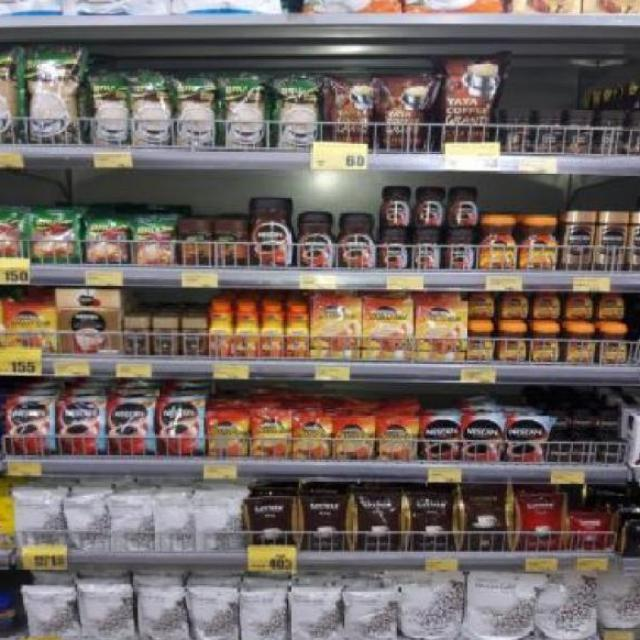Coffee: (249, 198, 295, 267), (5, 396, 56, 454), (364, 299, 413, 359), (156, 398, 205, 456), (313, 298, 361, 357), (417, 302, 466, 359), (108, 399, 155, 455), (58, 399, 105, 454), (5, 304, 56, 354), (295, 213, 336, 269), (338, 214, 378, 271), (478, 216, 516, 269), (518, 217, 556, 270), (462, 416, 503, 464), (207, 412, 249, 458), (505, 419, 547, 464), (376, 418, 419, 461), (333, 416, 374, 460), (564, 212, 594, 272), (251, 412, 291, 457), (597, 213, 627, 271), (421, 417, 461, 460), (293, 416, 333, 458), (378, 186, 414, 227), (234, 302, 258, 358), (443, 229, 477, 268), (260, 304, 284, 358), (377, 229, 410, 268), (415, 187, 446, 227), (411, 229, 442, 269), (286, 302, 308, 357), (448, 187, 479, 226), (498, 325, 528, 363), (565, 325, 595, 363), (532, 324, 561, 363), (599, 325, 627, 363), (467, 324, 494, 362), (212, 304, 231, 357), (152, 318, 178, 356), (122, 317, 147, 356), (181, 319, 207, 355), (565, 293, 594, 319), (501, 294, 530, 318), (534, 293, 559, 319), (468, 293, 495, 317), (597, 295, 624, 319), (630, 212, 640, 270), (602, 443, 626, 462), (599, 411, 620, 431), (572, 410, 593, 429), (576, 442, 595, 461), (549, 444, 569, 462), (551, 412, 569, 429)
